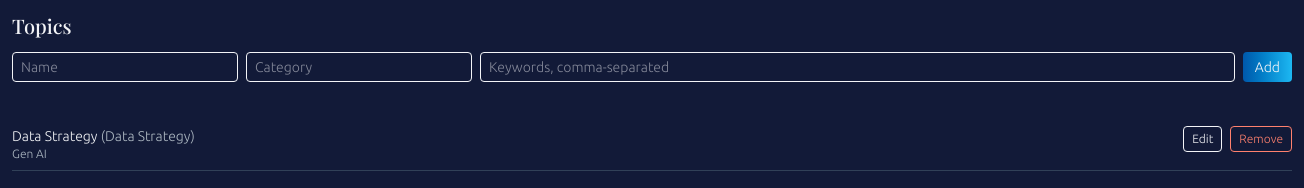
Test case: TopicsPage › removes a topic after confirmation
Expected: the text "Data Strategy" is shown, [12,128,98,144]
Click the button "Remove" at (1261, 139), box [1230,126,1292,152]
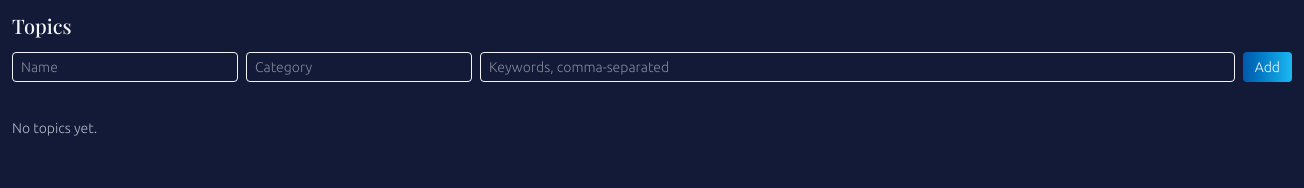
Expected: the text "No topics yet." is shown, [12,120,97,136]
